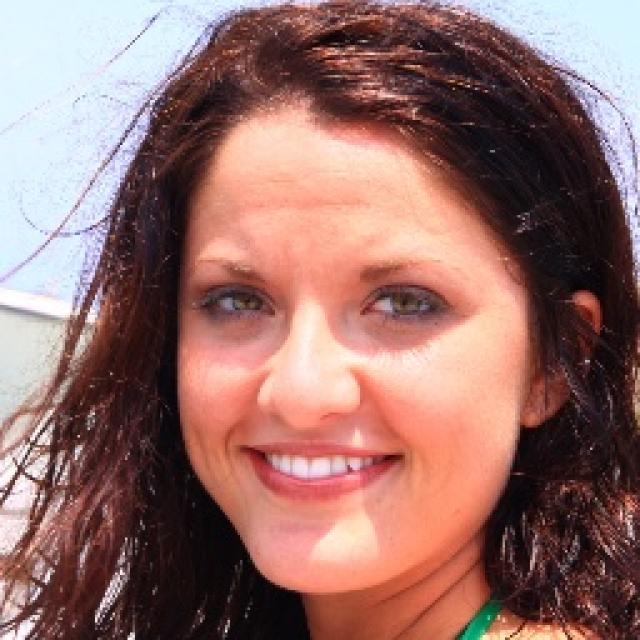earlobe: (519, 291, 602, 428)
